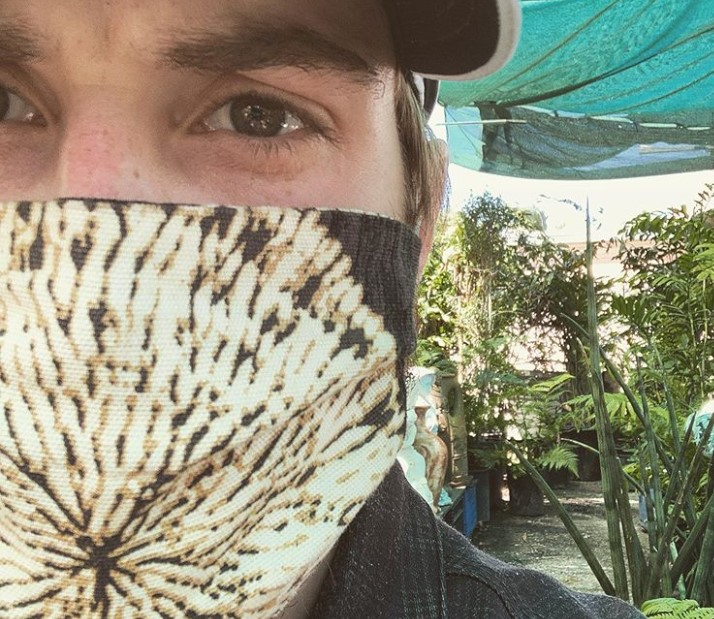face_with_mask: (1, 3, 436, 617)
